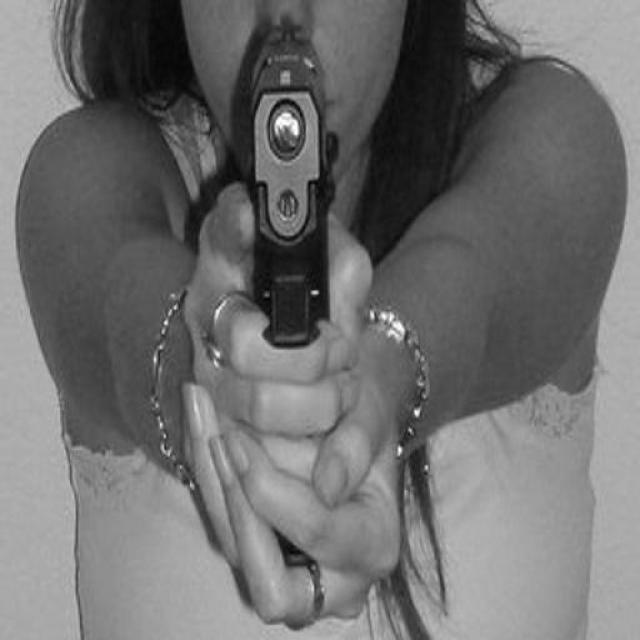pistol: (251, 24, 323, 349)
